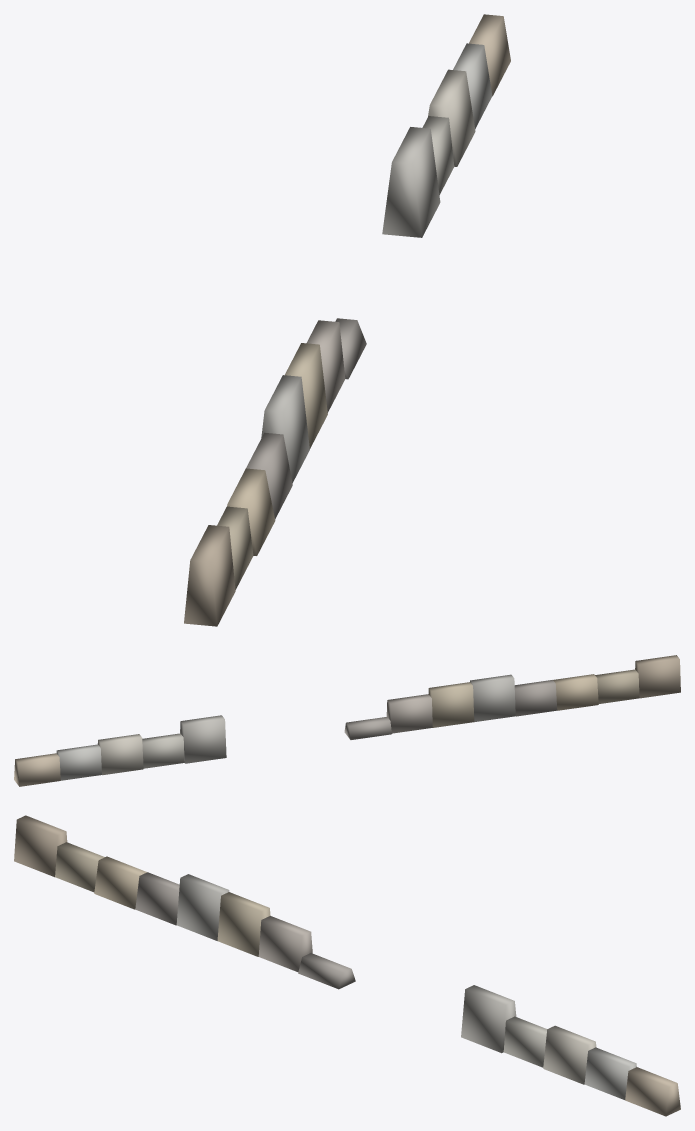
File: farm_25_19_collision.glb
3 renders of one model, top to bottom at view 1: azimuth 30°, elevation 25°; view 2: azimuth 150°, elevation 25°; view 3: azimuth 270°, elevation 25°, orthographic. The views are drawn at different scales.
Parts seen in each view (by area): view 1: geometry_0; view 2: geometry_0; view 3: geometry_0.
Part boxes in pixels (bbox=[...]): geometry_0: bbox=[184, 14, 510, 626]; geometry_0: bbox=[14, 655, 680, 786]; geometry_0: bbox=[14, 815, 680, 1116].
Bounding box in the file's own units: 17.46 × 1.58 × 19.18.
